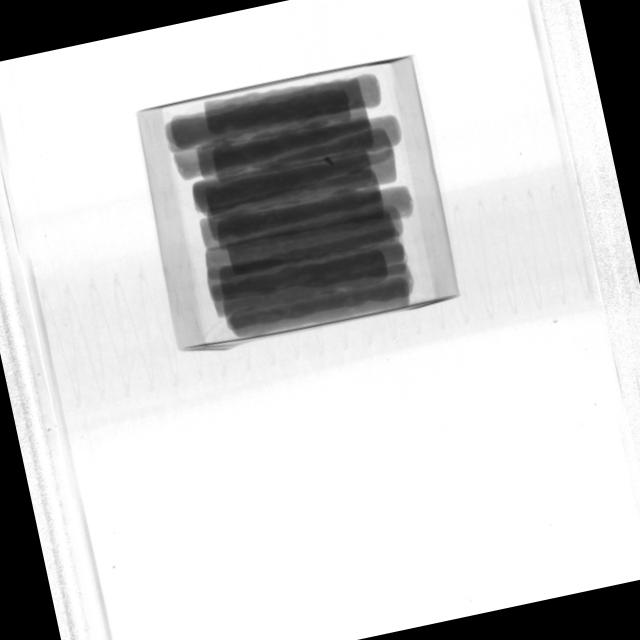ym: (324, 155, 337, 170)
